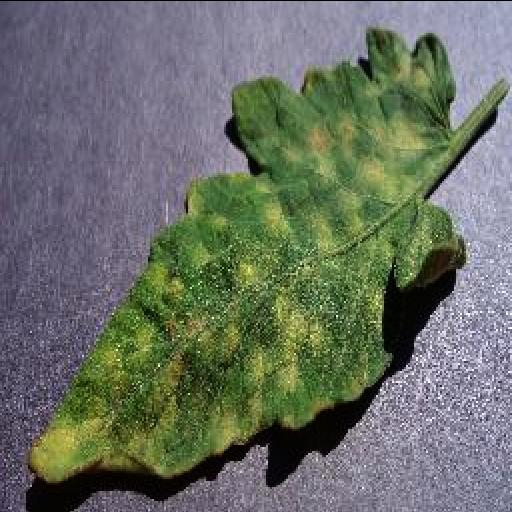disease_tomato: (26, 26, 466, 484)
